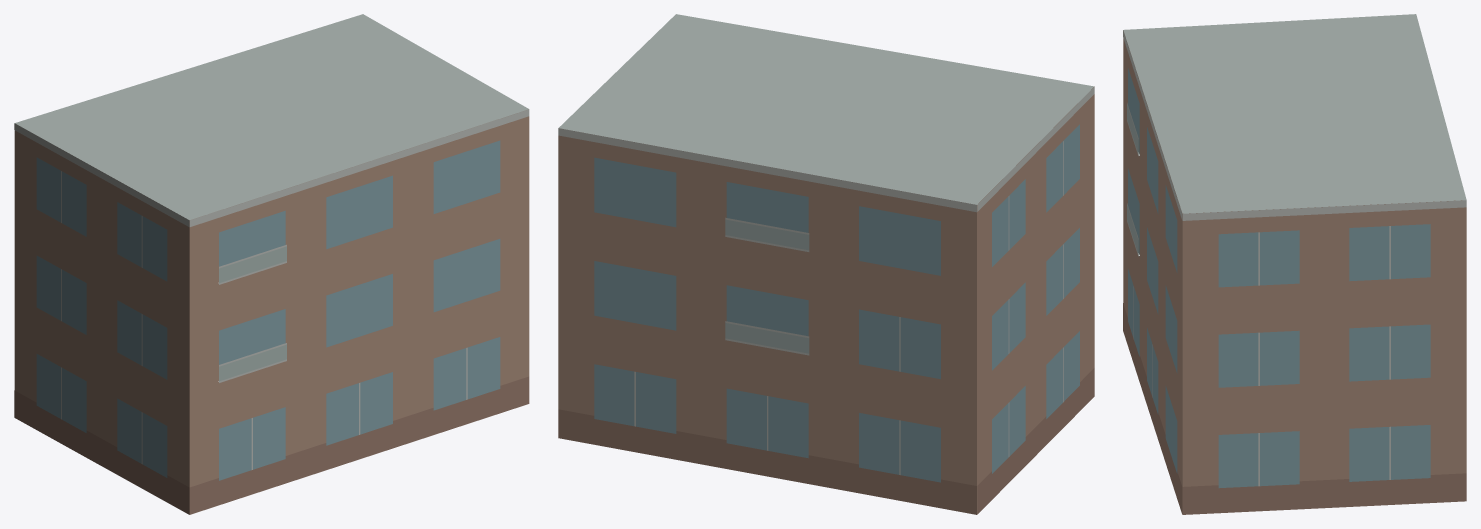
The model's file is survey-upis-32664055.glb.
3 views of the same model, side by side, from view 1: azimuth 30°, elevation 25°; view 2: azimuth 150°, elevation 25°; view 3: azimuth 270°, elevation 25° (orthographic). The views are drawn at different scales.
Parts seen in each view (by area): view 1: survey-upis-32664055.tmp; view 2: survey-upis-32664055.tmp; view 3: survey-upis-32664055.tmp.
Boxes of the visible parts, x1,y1,x2,y2 form: survey-upis-32664055.tmp: [14, 14, 529, 514]; survey-upis-32664055.tmp: [558, 14, 1094, 514]; survey-upis-32664055.tmp: [1123, 14, 1466, 514].
Size of the model in its own units: 14.52 by 10.2 by 10.56.
